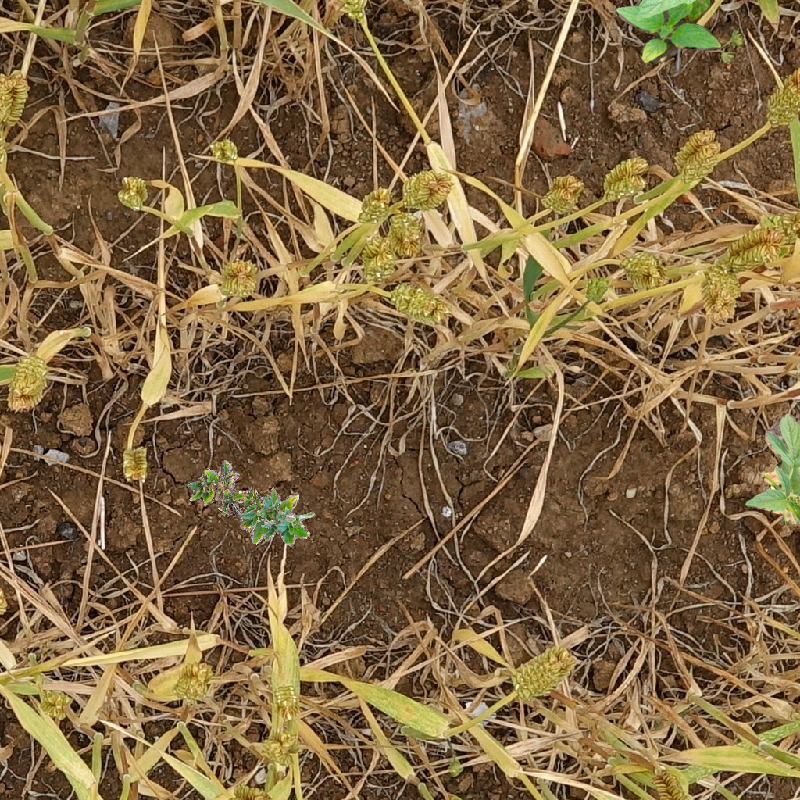spikelet: (510, 646, 576, 698), (724, 224, 785, 268), (672, 126, 720, 180), (600, 153, 649, 201), (401, 165, 454, 208), (701, 265, 742, 320), (389, 280, 441, 323), (217, 255, 262, 299), (9, 353, 50, 400), (539, 172, 583, 215), (172, 660, 215, 703), (387, 208, 425, 255), (257, 732, 300, 772), (359, 239, 398, 283), (763, 81, 800, 126), (1, 69, 30, 125), (356, 184, 394, 224), (621, 248, 661, 285), (267, 675, 302, 716), (119, 440, 151, 483), (115, 174, 151, 210), (659, 764, 692, 800), (38, 686, 72, 720), (581, 273, 614, 304), (207, 135, 240, 165), (330, 1, 368, 20)
weed: (186, 461, 310, 550), (618, 1, 726, 68), (745, 414, 800, 524)
